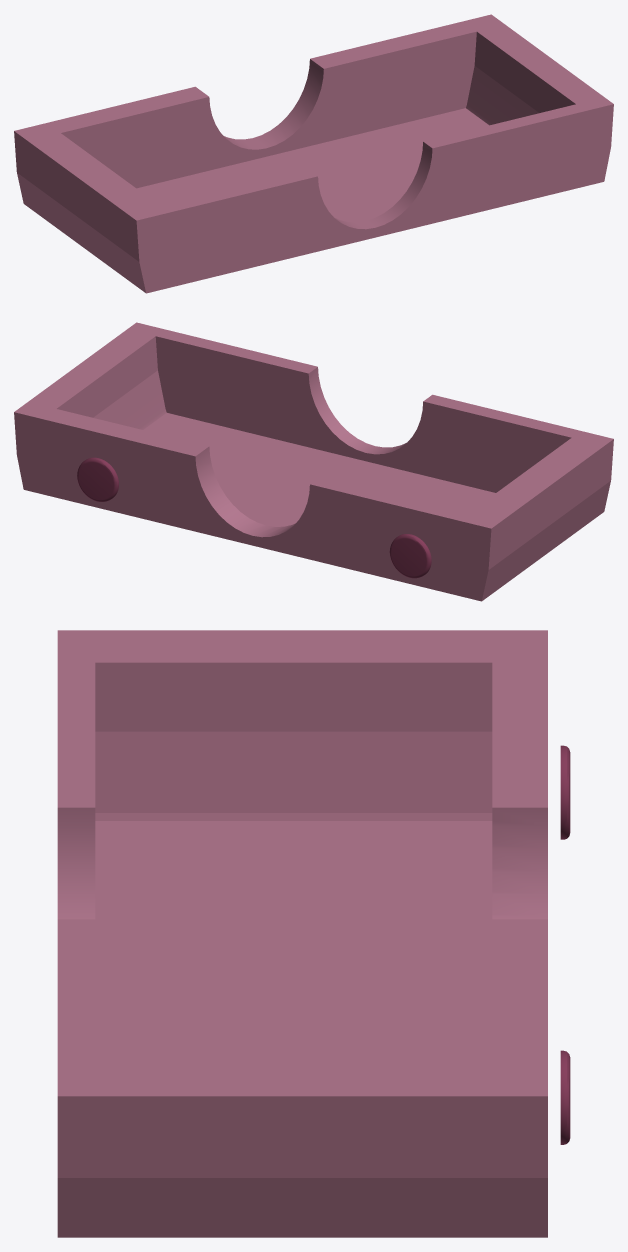
Rendered from cajon1.obj.
3 views of the same model, one above another, from view 1: azimuth 30°, elevation 25°; view 2: azimuth 150°, elevation 25°; view 3: azimuth 270°, elevation 25° (orthographic). The views are drawn at different scales.
Visible parts, largest first — view 1: pCube6; view 2: pCube6; view 3: pCube6.
Boxes of the visible parts, x1,y1,x2,y2 form: pCube6: [14, 14, 613, 293]; pCube6: [14, 322, 613, 601]; pCube6: [57, 630, 570, 1237].
Size of the model in its own units: 2.34 by 0.3554 by 1.09.
